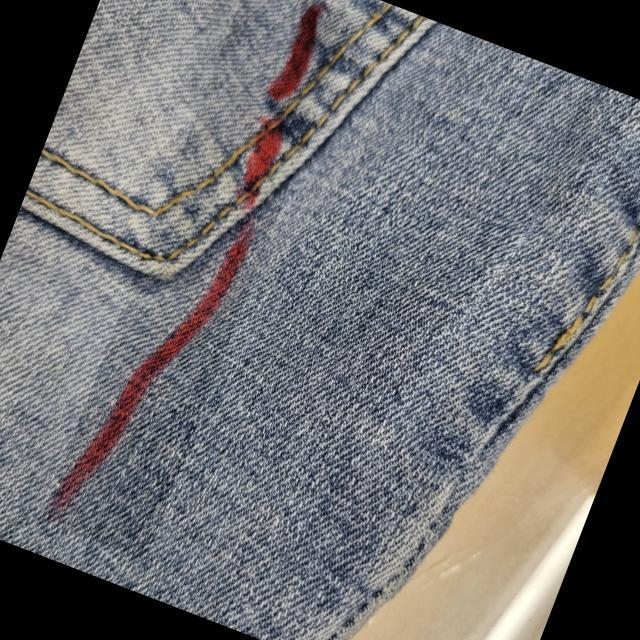Stain: (48, 0, 332, 525)
seam: (322, 217, 640, 638), (19, 2, 435, 280)
